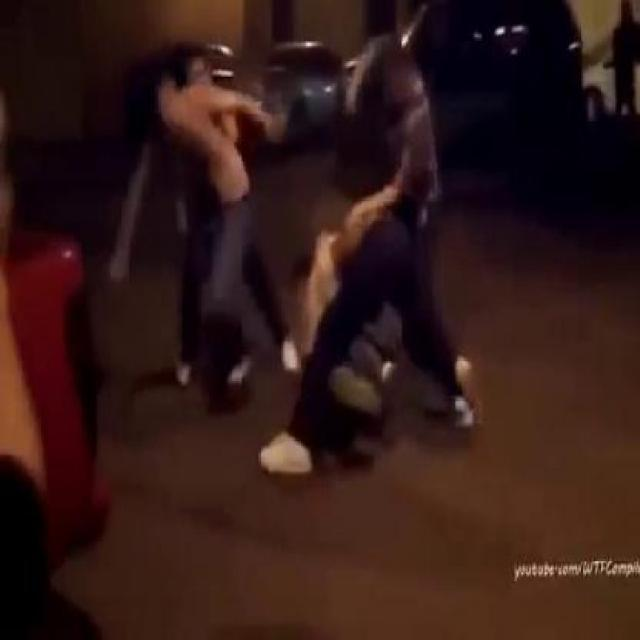fight: (264, 38, 466, 496)
